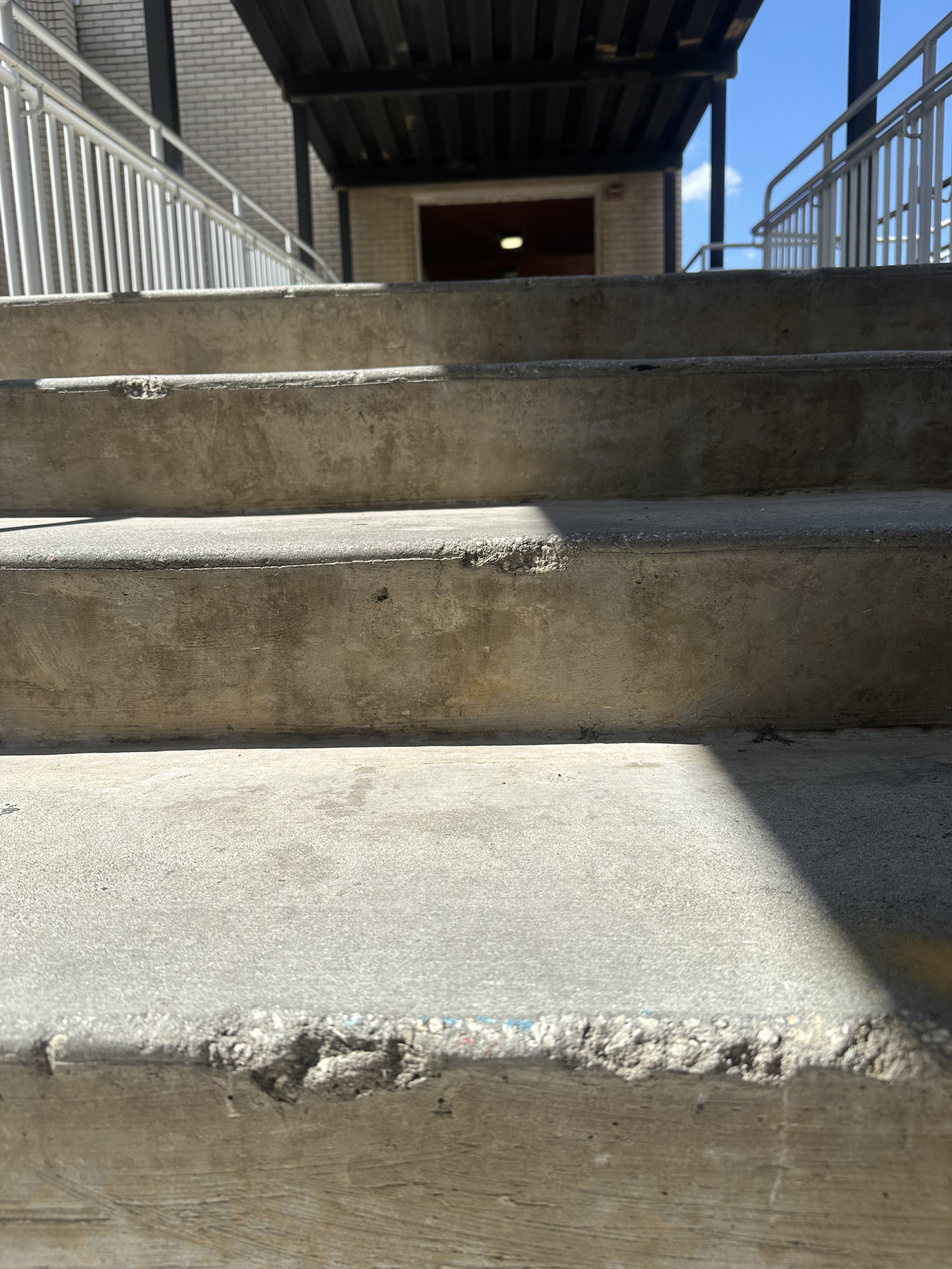stairs: (3, 263, 952, 1268)
